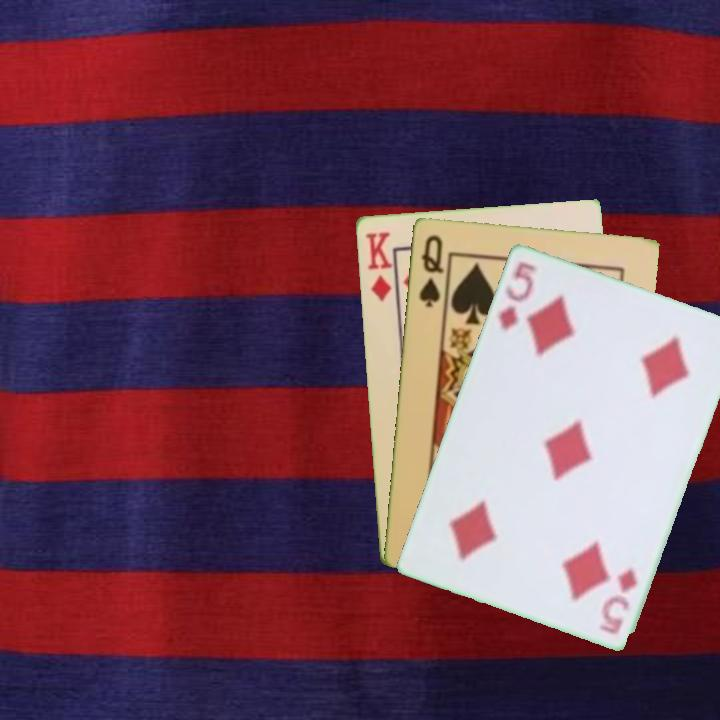5d: (494, 257, 540, 333), (596, 562, 640, 637)
Kd: (361, 228, 395, 305)
Qs: (415, 231, 446, 310)
